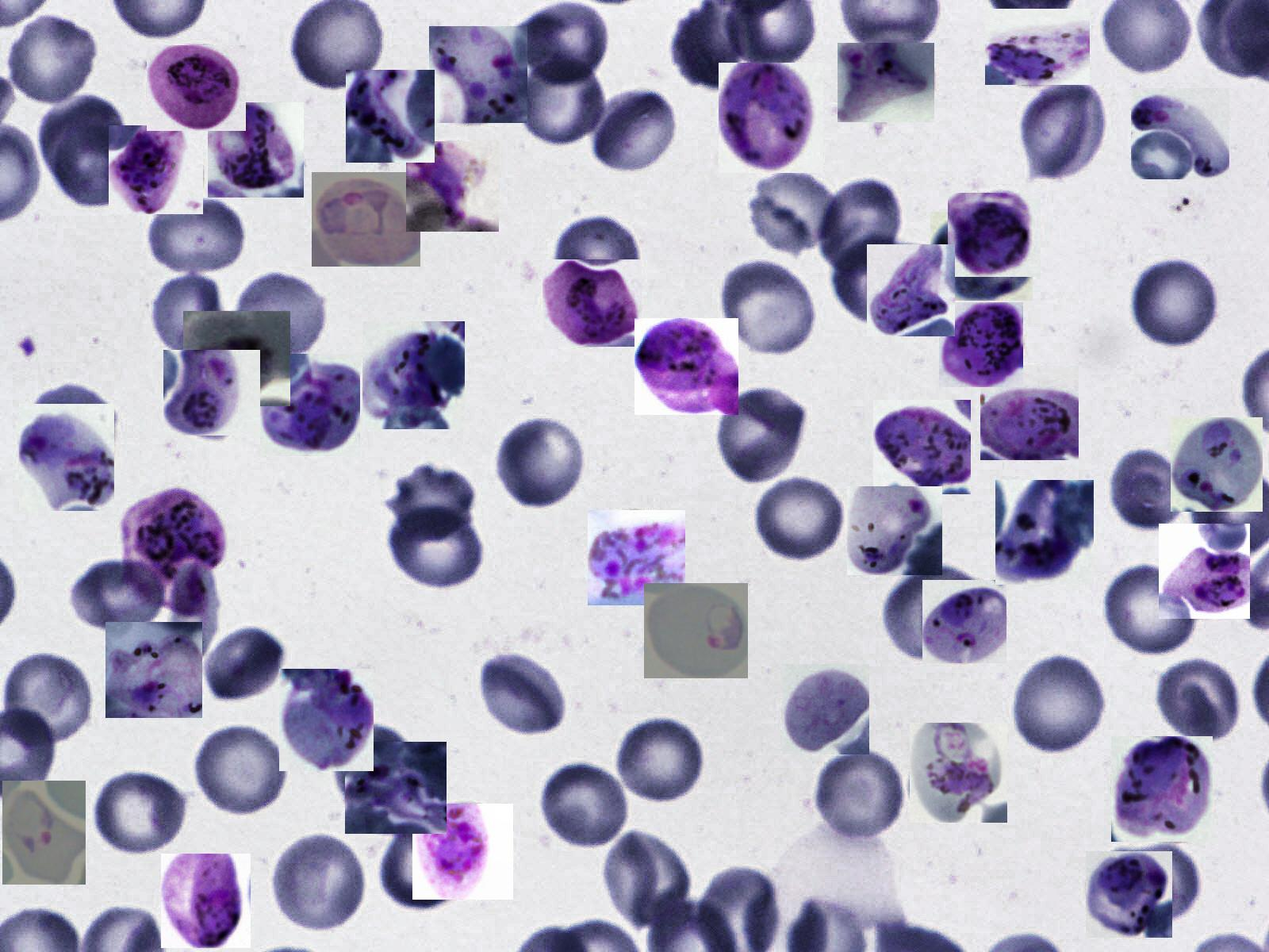Infected: (116, 486, 226, 615), (719, 63, 823, 173), (362, 321, 465, 429), (1111, 736, 1213, 842), (995, 480, 1094, 585), (312, 172, 420, 267), (260, 354, 360, 456), (19, 404, 114, 511), (183, 311, 290, 406), (635, 318, 739, 415), (644, 583, 748, 678), (910, 723, 1007, 823), (412, 804, 513, 900), (279, 669, 374, 771), (429, 26, 527, 123), (345, 742, 447, 834), (105, 622, 202, 718), (980, 366, 1079, 460), (208, 102, 304, 198), (588, 510, 685, 605), (873, 400, 971, 494), (930, 212, 1033, 301), (1131, 88, 1229, 179), (542, 259, 642, 347), (1171, 417, 1263, 512), (2, 781, 86, 885), (1159, 524, 1250, 619), (147, 45, 246, 131), (406, 141, 499, 232), (161, 854, 251, 948), (847, 486, 942, 575), (109, 125, 203, 214), (163, 350, 260, 436), (346, 70, 435, 163), (867, 244, 955, 336), (985, 9, 1090, 85), (782, 664, 869, 754), (948, 193, 1041, 277), (838, 43, 934, 122), (1086, 851, 1172, 938), (939, 302, 1023, 387), (922, 580, 1006, 663)
Uninfected: (1009, 650, 1111, 754), (267, 831, 370, 933), (1098, 561, 1202, 658), (717, 256, 815, 358), (489, 413, 590, 510), (33, 96, 136, 190), (600, 829, 691, 935), (1017, 81, 1111, 182), (882, 565, 983, 659), (811, 747, 907, 845), (711, 385, 807, 483), (23, 383, 120, 476), (230, 271, 331, 360), (90, 769, 192, 857), (514, 54, 608, 149), (193, 723, 289, 815), (4, 13, 102, 103), (819, 174, 905, 275), (1103, 840, 1205, 924), (752, 474, 847, 564), (1130, 258, 1223, 349), (385, 501, 480, 590), (474, 649, 571, 736), (146, 193, 244, 278), (5, 653, 95, 745), (536, 761, 632, 847), (613, 715, 705, 804), (551, 212, 646, 298), (511, 2, 609, 85), (146, 272, 234, 364), (1152, 655, 1244, 742), (589, 87, 681, 174), (64, 558, 167, 635), (834, 232, 921, 322), (52, 117, 137, 208), (378, 824, 462, 912), (748, 174, 839, 252), (331, 722, 412, 807), (1108, 446, 1186, 534), (385, 462, 477, 536), (201, 627, 286, 702)
